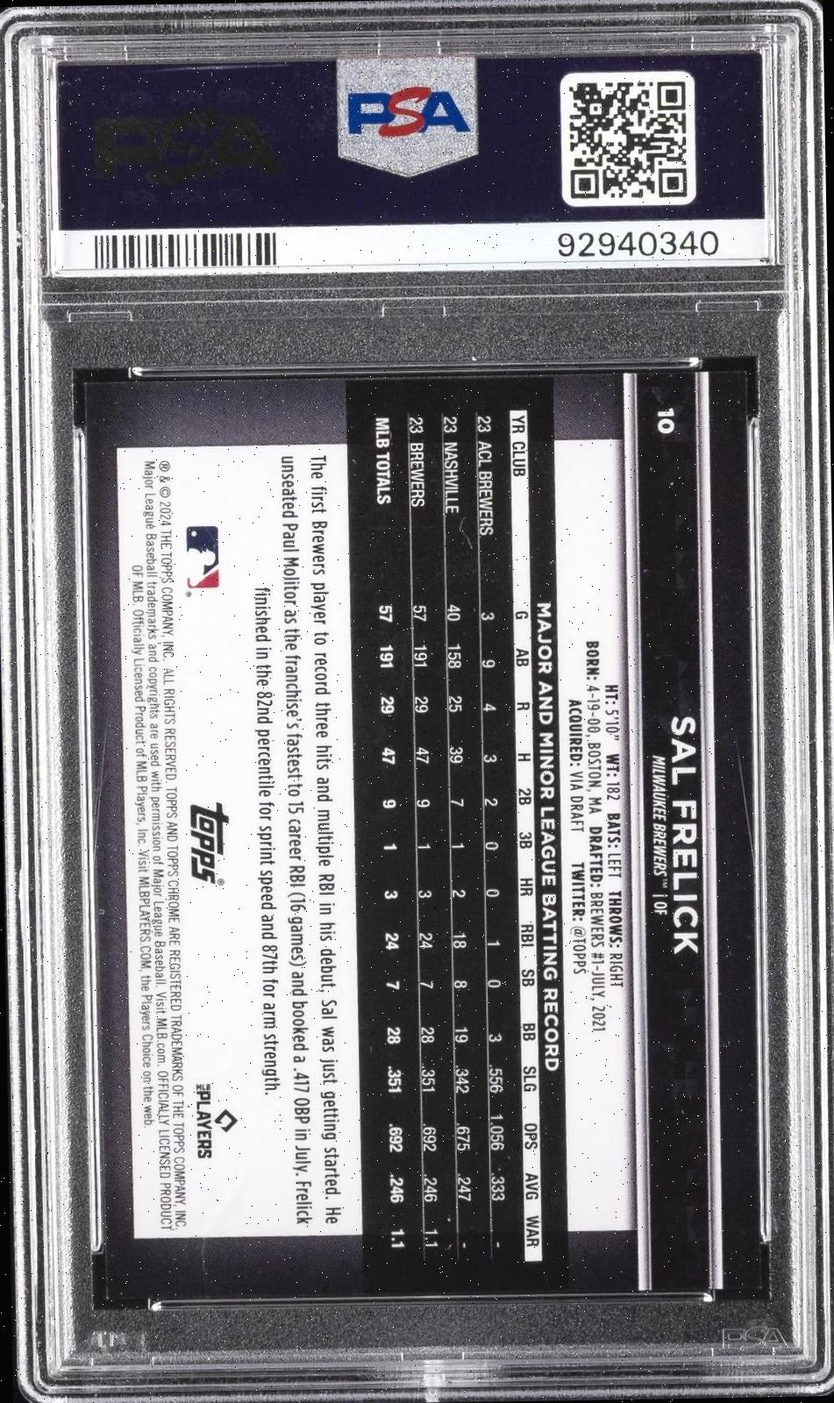card-2UtV: (83, 370, 761, 1300)
